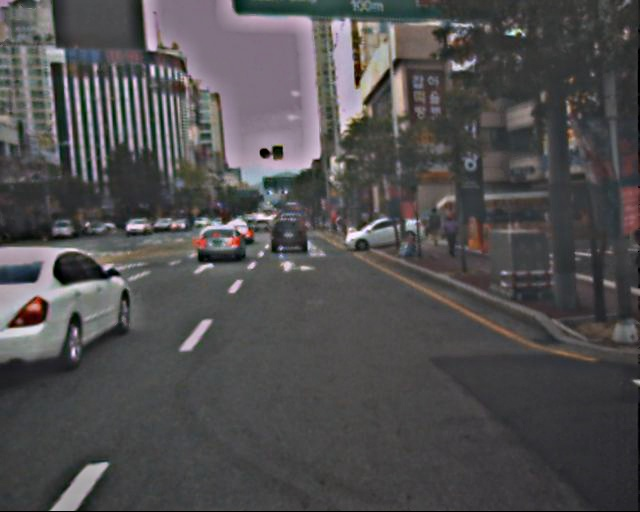person: (441, 213, 460, 260), (427, 206, 444, 248)
